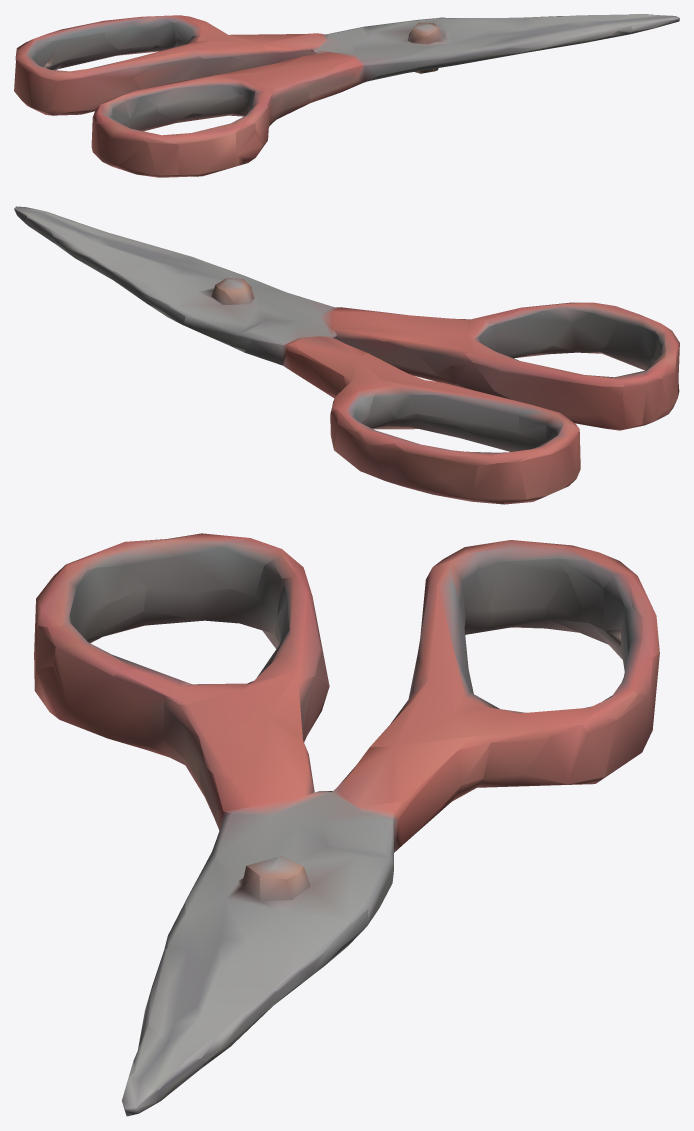
The model's file is 0013_mask_014_scissors.glb.
3 renders of one model, top to bottom at view 1: azimuth 30°, elevation 25°; view 2: azimuth 150°, elevation 25°; view 3: azimuth 270°, elevation 25°, orthographic. The views are drawn at different scales.
Visible parts, largest first — view 1: mask_014_object; view 2: mask_014_object; view 3: mask_014_object.
Boxes of the visible parts, x1,y1,x2,y2 form: mask_014_object: (14, 14, 679, 177); mask_014_object: (14, 206, 679, 504); mask_014_object: (34, 533, 659, 1116).
Bounding box in the file's own units: 0.2763 × 0.0213 × 0.1338.
